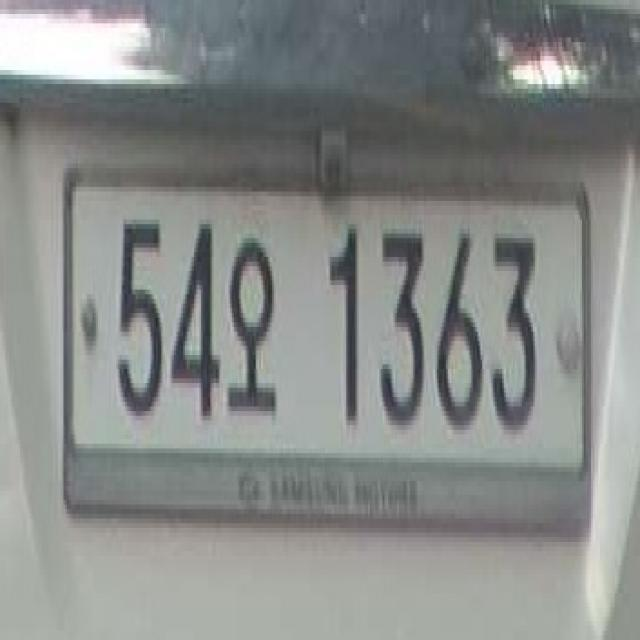1: (326, 201, 363, 434)
3: (490, 215, 551, 439), (380, 192, 430, 430)
4: (167, 206, 221, 430)
5: (116, 201, 163, 420)
6: (433, 220, 488, 453)
license_plate: (58, 163, 595, 528)
o: (218, 225, 284, 434)
